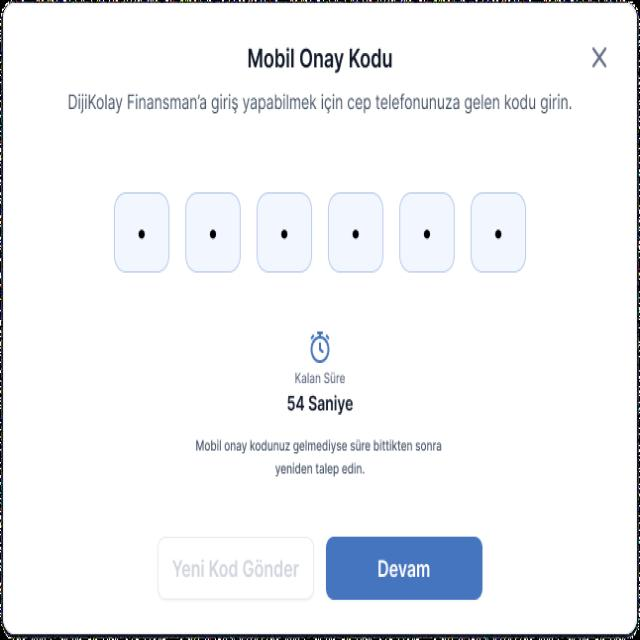QLabel: (63, 85, 576, 121), (195, 437, 442, 455), (240, 45, 390, 72), (168, 555, 301, 579), (284, 391, 357, 418), (273, 460, 364, 476), (376, 558, 432, 578), (292, 370, 347, 388)
VBtn: (157, 535, 317, 601), (326, 535, 484, 600)
VIcon: (306, 328, 332, 366), (589, 39, 610, 75)
